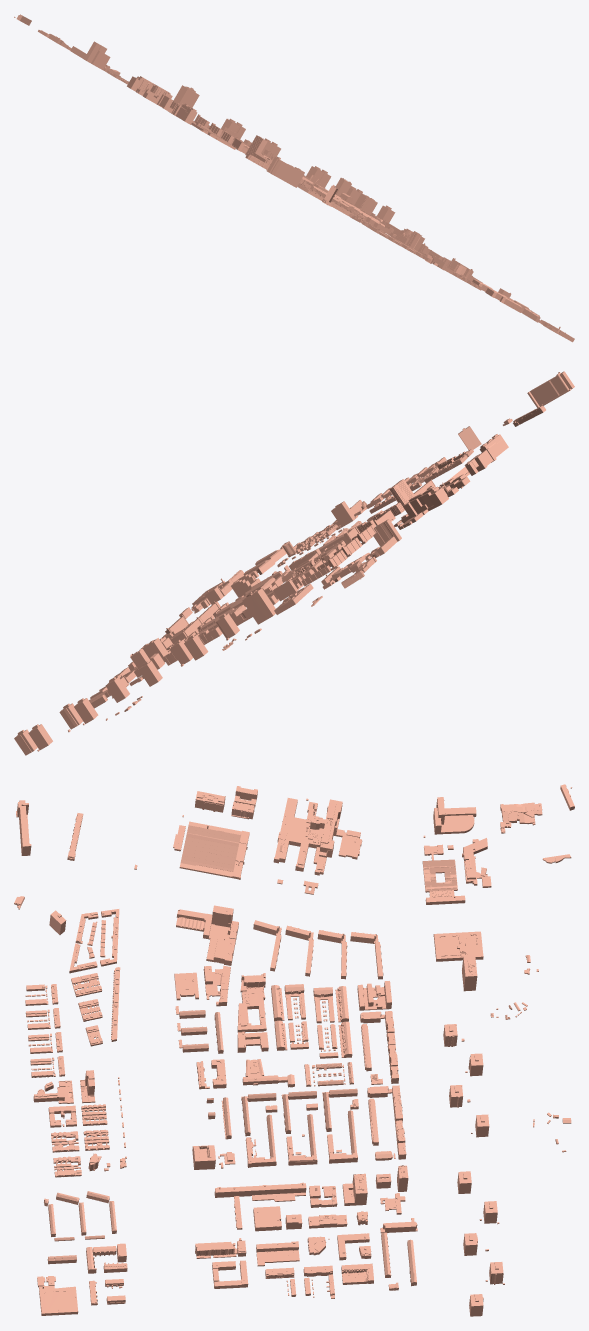
The picture shows the model from 3 angles, top to bottom: view 1: azimuth 30°, elevation 25°; view 2: azimuth 150°, elevation 25°; view 3: azimuth 270°, elevation 25°; orthographic projection. The views are drawn at different scales.
Bounding box in the file's own units: 3.49e+07 × 2.62e+07 × 3.9e+07.
